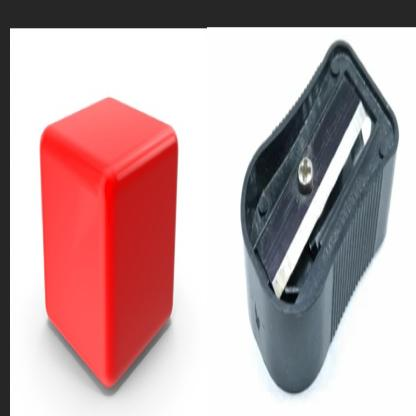red_block: (10, 27, 198, 412)
sharpener: (218, 28, 416, 404)
